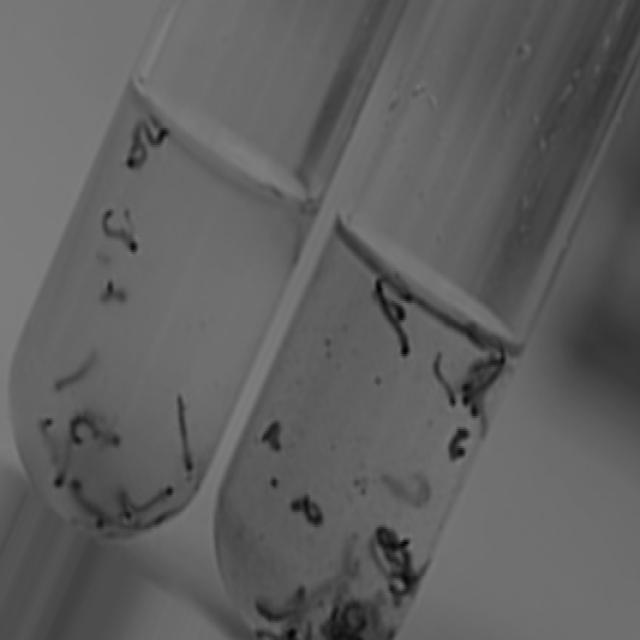larvas: (373, 275, 412, 358), (462, 358, 507, 407), (54, 347, 94, 394), (384, 470, 431, 506), (71, 476, 108, 521), (459, 351, 496, 391), (105, 209, 139, 250), (177, 389, 193, 474), (72, 417, 120, 445), (374, 287, 408, 322), (289, 494, 322, 525), (254, 596, 292, 622), (55, 429, 72, 487), (438, 353, 458, 402), (378, 524, 408, 556), (291, 585, 324, 614), (134, 484, 170, 509), (41, 416, 58, 462), (342, 600, 366, 631), (395, 558, 422, 585), (471, 396, 489, 435), (135, 122, 168, 142), (347, 531, 361, 577), (326, 601, 342, 640), (449, 426, 469, 457), (371, 538, 386, 577), (389, 572, 408, 602), (100, 283, 124, 306), (119, 489, 133, 524), (264, 419, 281, 447), (127, 145, 146, 167), (257, 629, 294, 640)
